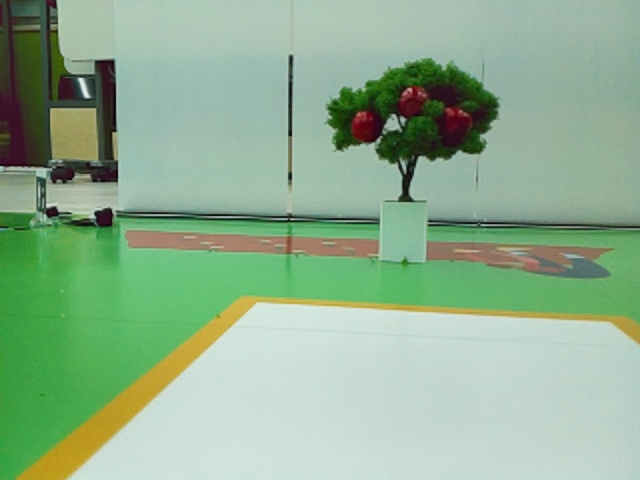apple: (399, 86, 429, 115), (352, 111, 374, 141), (445, 107, 472, 131)
